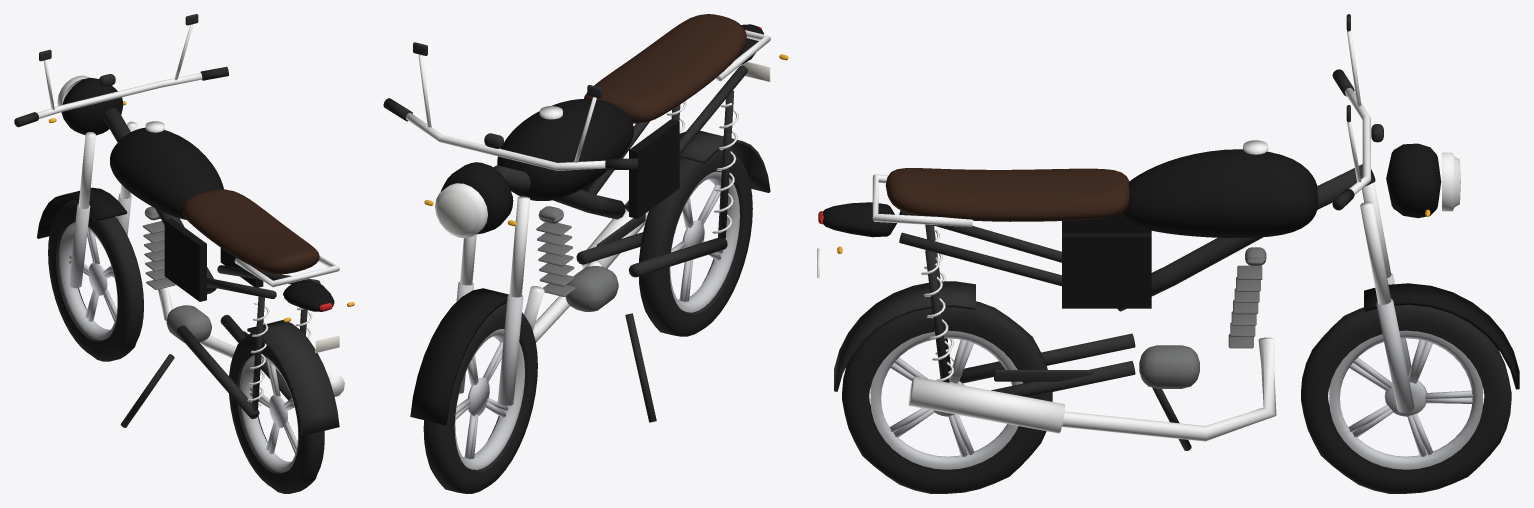
The model's file is bike_0.glb.
The picture shows the model from 3 angles, left to right: view 1: azimuth 30°, elevation 25°; view 2: azimuth 150°, elevation 25°; view 3: azimuth 270°, elevation 25°; orthographic projection. The views are drawn at different scales.
Visible parts, largest first — view 1: body, wheel_0, wheel_1; view 2: body, wheel_1, wheel_0; view 3: body, wheel_0, wheel_1.
Part boxes in pixels (left/top/right/bottom): body: left=14, top=14, right=354, bottom=435; wheel_0: left=48, top=199, right=143, bottom=361; wheel_1: left=229, top=333, right=324, bottom=493; body: left=383, top=14, right=788, bottom=425; wheel_1: left=639, top=148, right=752, bottom=336; wheel_0: left=423, top=303, right=537, bottom=493; body: left=817, top=14, right=1519, bottom=450; wheel_0: left=1301, top=304, right=1511, bottom=493; wheel_1: left=842, top=301, right=1052, bottom=493.
Size of the model in its own units: 0.8708 by 1.32 by 1.96.
